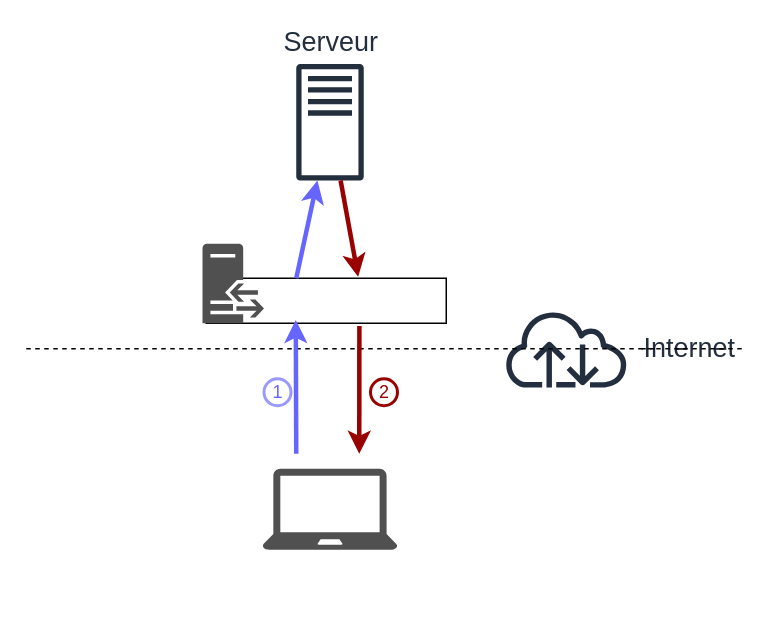
The diagram is 774 pixels wide and 618 high, and some of its shapes have lost their labels. The shapes that lost their labels are listed below. From the top down, each one's box as (x1, y1, x2, y2) in pixels, then its label:
(202, 243, 263, 322): Proxy inverse
(262, 468, 397, 549): Client
